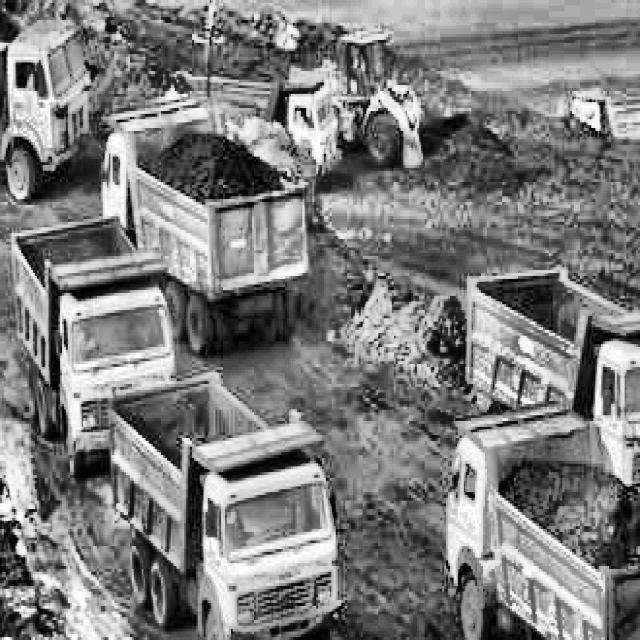dump_truck: (103, 361, 337, 640), (98, 73, 314, 339), (442, 395, 640, 640), (440, 233, 640, 475), (0, 216, 167, 472), (0, 8, 83, 201), (564, 74, 640, 171)
